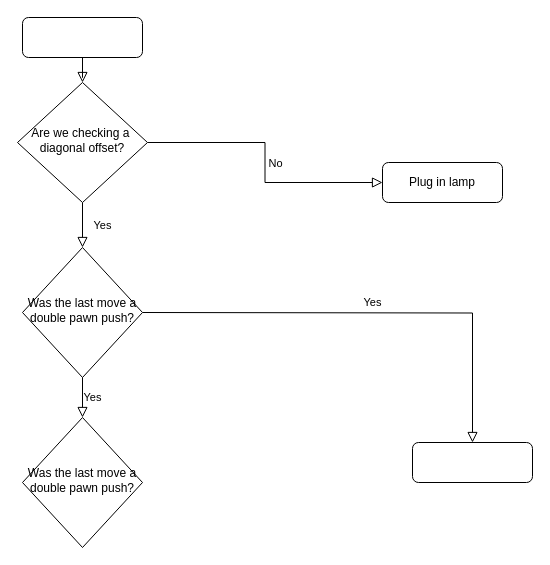
This 550x565 diagram has some shape labels left out. Here are the shapes that lost their labels. From the top down, the centre of each, then its label:
point (82, 37): Start
point (472, 462): Replace Bulb
